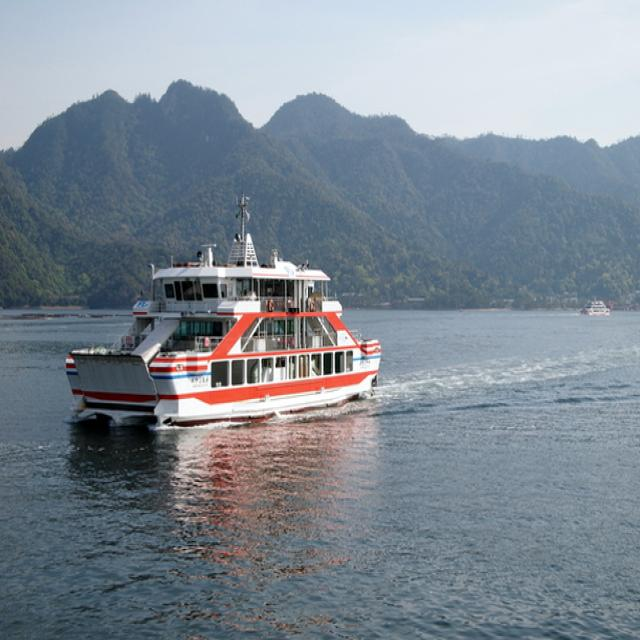houseboat: (66, 207, 389, 450)
